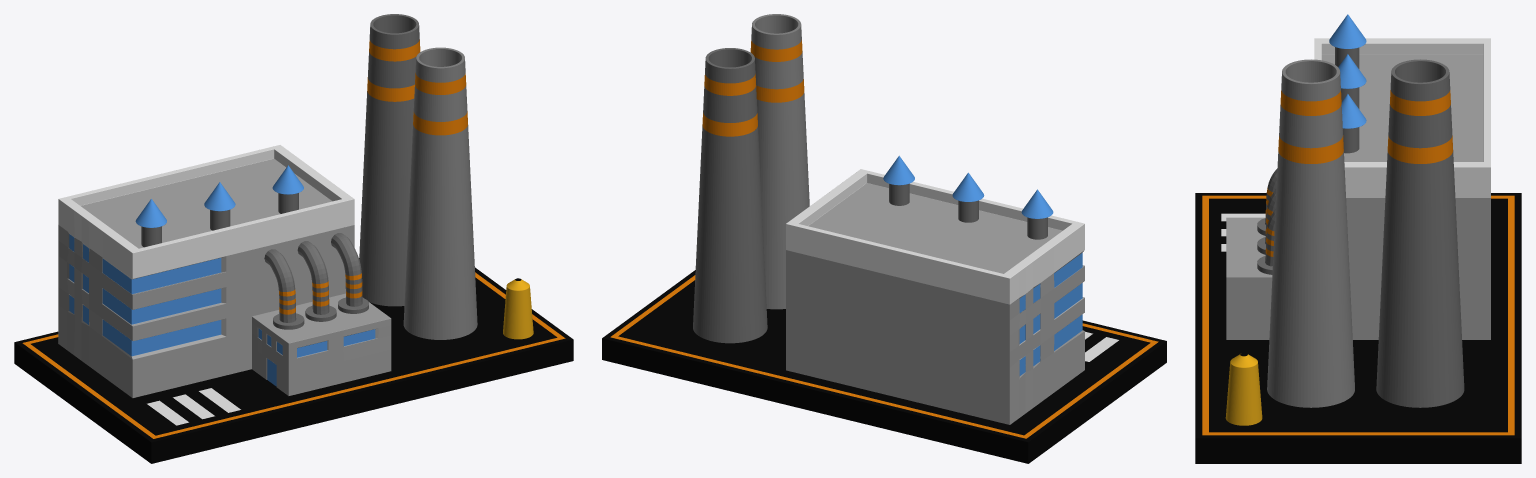
The model's file is factory.glb.
3 views of the same model, side by side, from view 1: azimuth 30°, elevation 25°; view 2: azimuth 150°, elevation 25°; view 3: azimuth 270°, elevation 25° (orthographic). The views are drawn at different scales.
Parts seen in each view (by area): view 1: Factory; view 2: Factory; view 3: Factory.
Part boxes in pixels (x1,y1,x2,y2): Factory: (14,14,573,463); Factory: (602,14,1166,463); Factory: (1195,14,1521,463).
Size of the model in its own units: 590 by 385 by 332.
